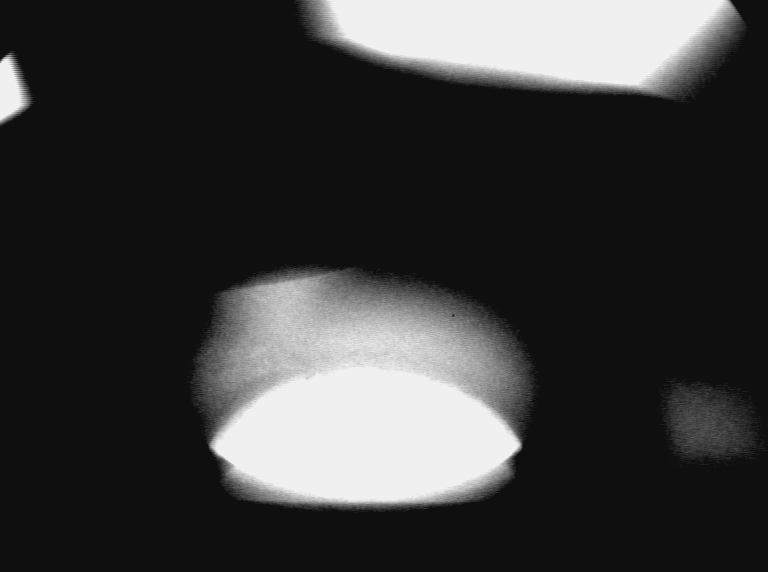defect: (181, 327, 299, 430)
